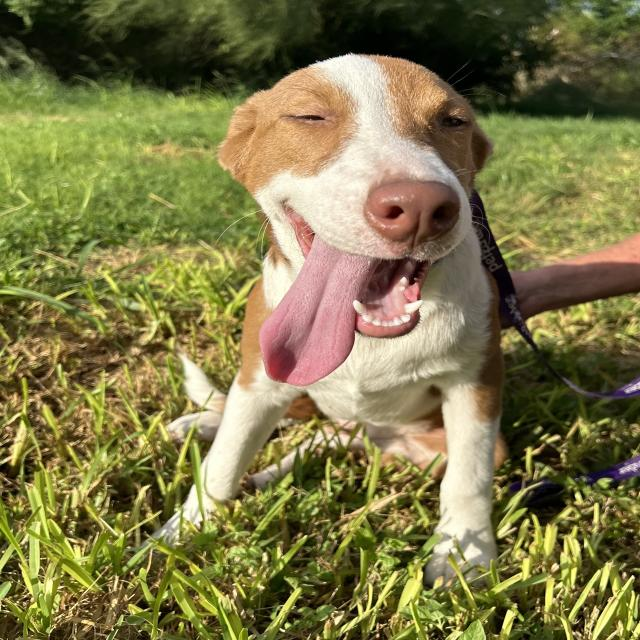labrador_retriever_dog: (198, 31, 517, 392)
